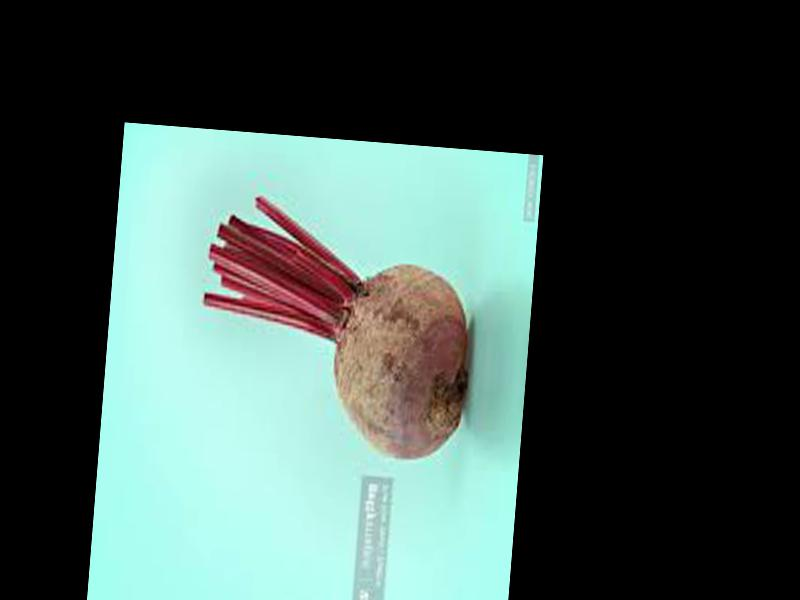Beet: (195, 194, 480, 463)
